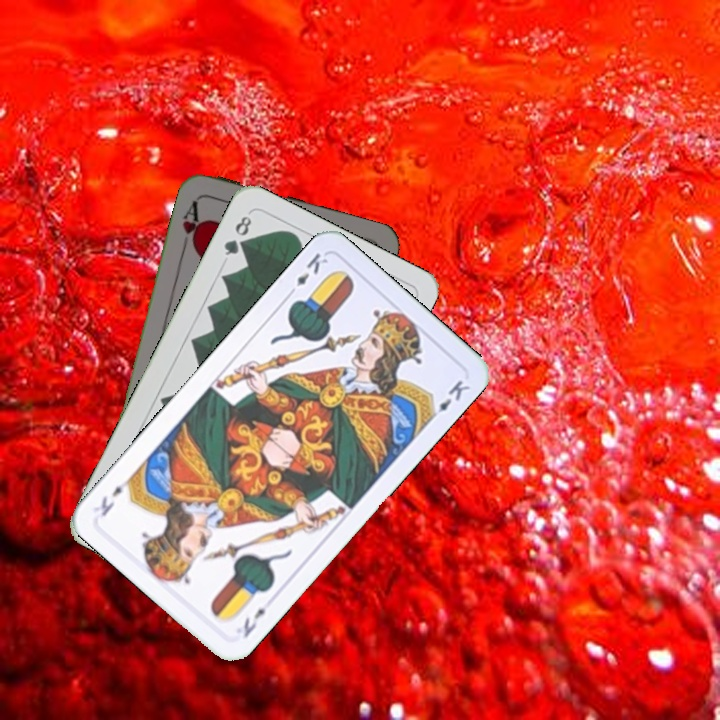EK: (283, 249, 330, 299), (239, 603, 269, 641)
G8: (220, 211, 254, 259)
HA: (178, 196, 205, 254)
